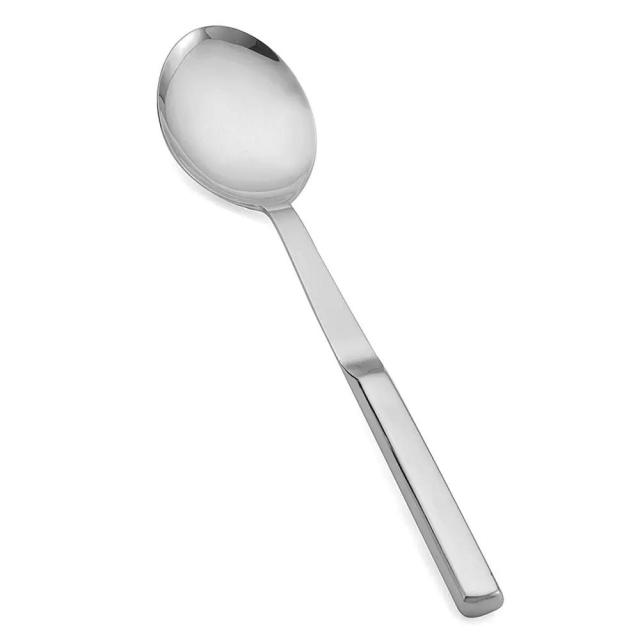spoon: (144, 17, 517, 622)
